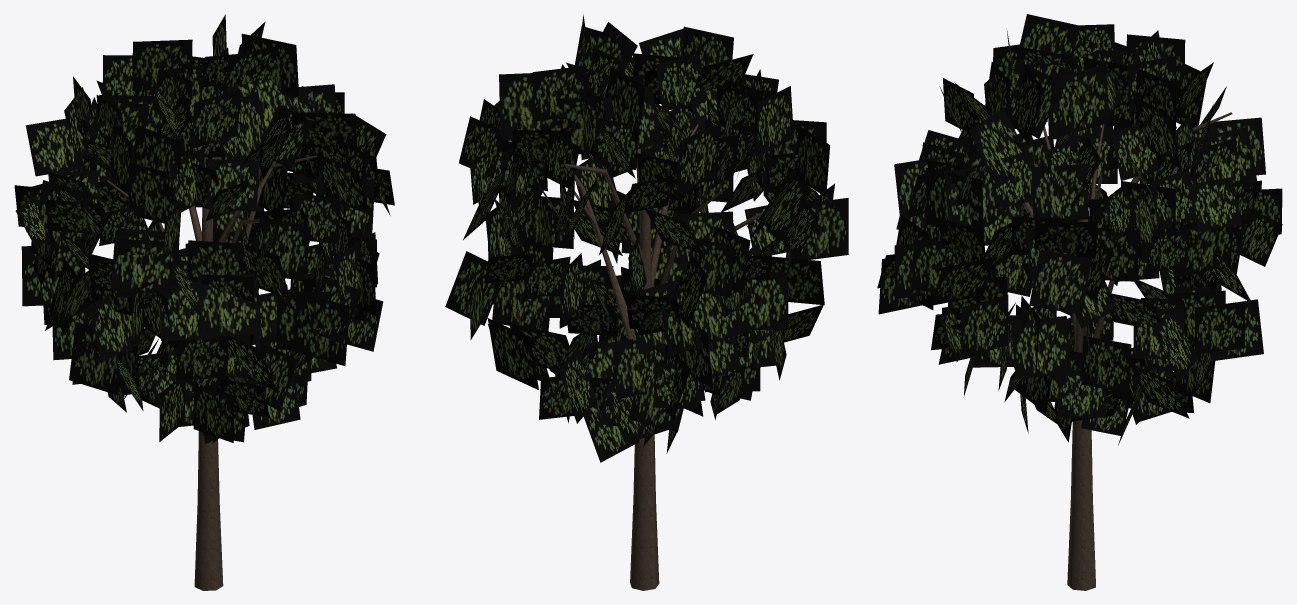
The model's file is tpl_yard_old_meadow_ash.glb.
3 renders of one model, left to right at view 1: azimuth 30°, elevation 25°; view 2: azimuth 150°, elevation 25°; view 3: azimuth 270°, elevation 25°, orthographic.
Visible parts, largest first — view 1: tpl_yard_old_meadow_ash; view 2: tpl_yard_old_meadow_ash; view 3: tpl_yard_old_meadow_ash.
Boxes of the visible parts, left/top/right/bottom form: tpl_yard_old_meadow_ash: left=14, top=14, right=394, bottom=590; tpl_yard_old_meadow_ash: left=445, top=14, right=848, bottom=590; tpl_yard_old_meadow_ash: left=877, top=14, right=1282, bottom=590.
Bounding box in the file's own units: 11.79 × 17.7 × 11.99.
Materials: 2 (2 with a texture image).
